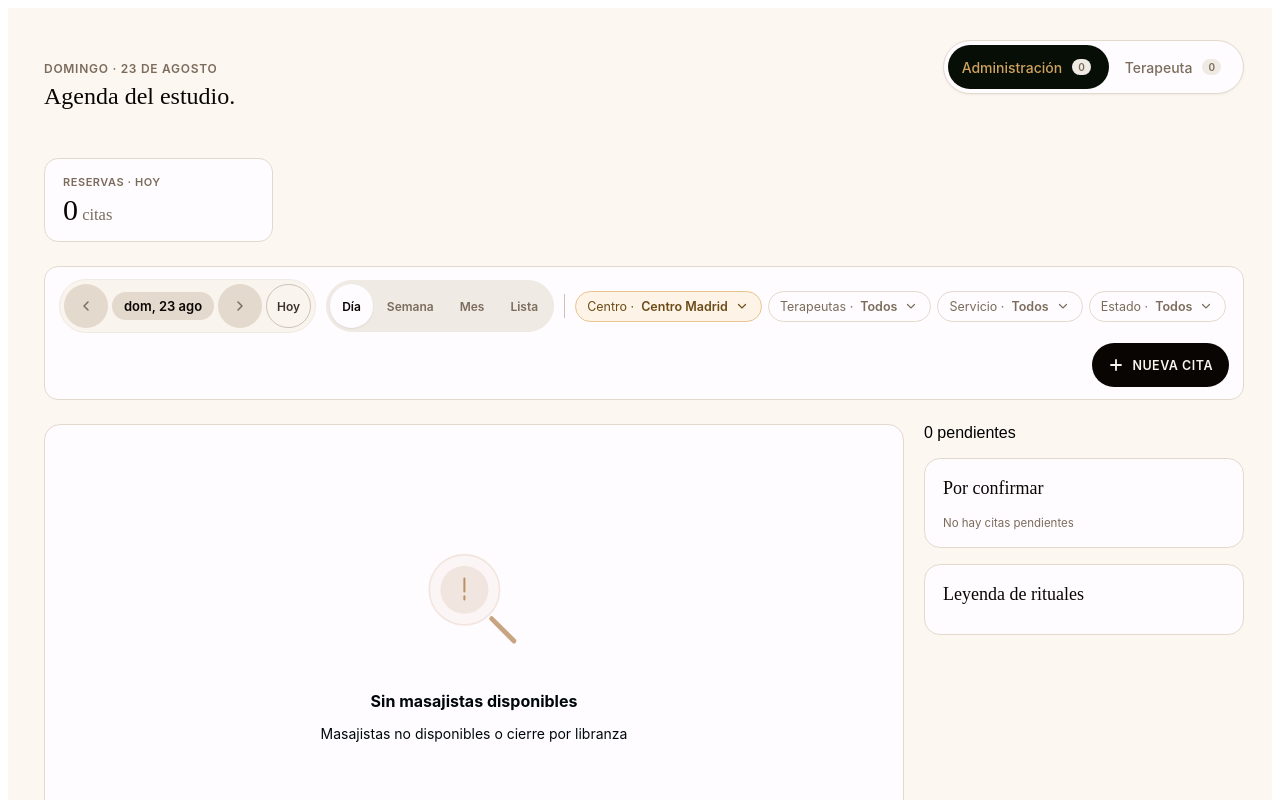
Test: AgendaPage — view switching › switches back to admin view when admin tab is clicked after switching to therapist
Click the button "Terapeuta 0". click: coordinates (1175, 67)
box: [1111,45,1239,89]
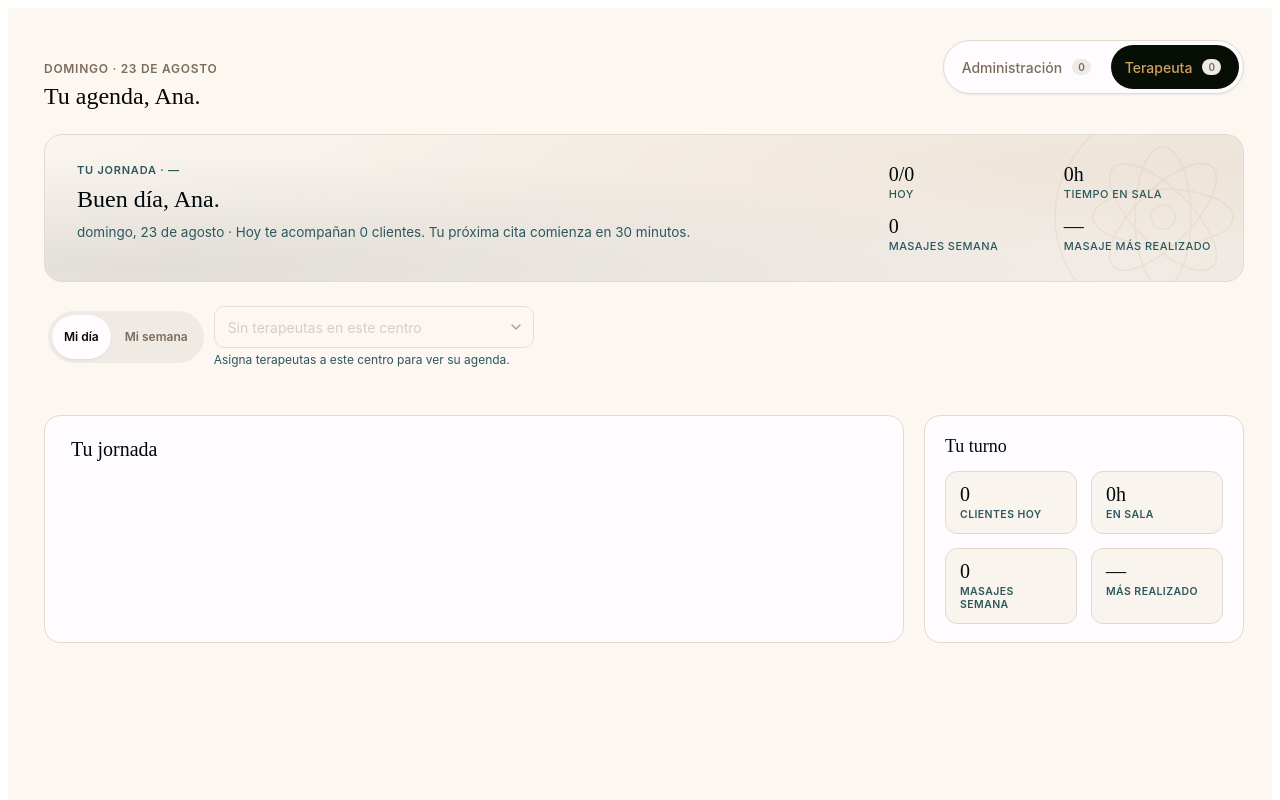
Check: the heading "Buen día, Ana." is shown, box [77,186,220,212]
Click the button "Administración 0". click: coordinates (1028, 67)
box: [948,45,1109,89]
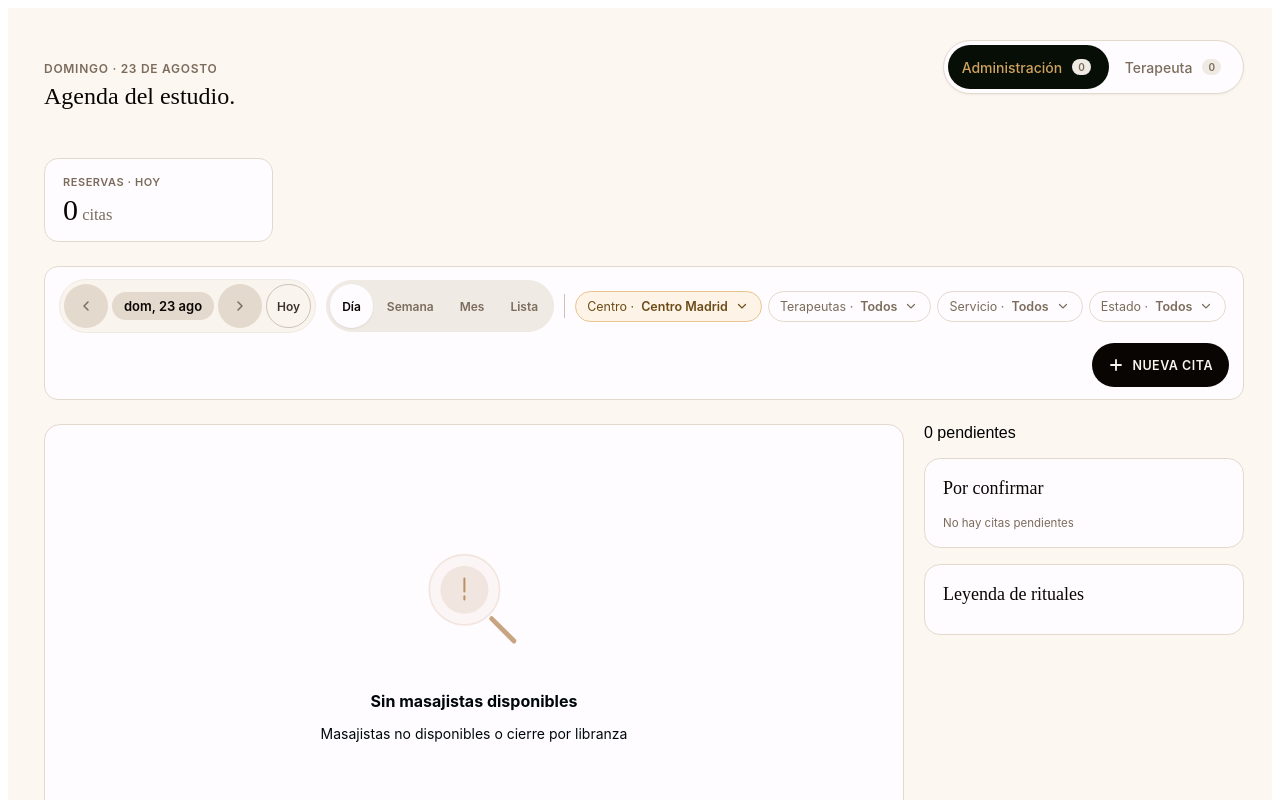
Check: the heading "Agenda del estudio." is shown, box [44,82,235,110]
